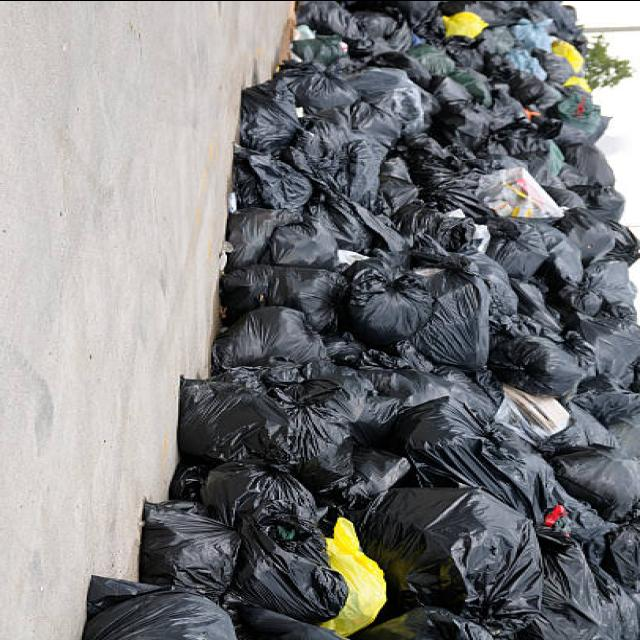garbage: (73, 0, 640, 637)
